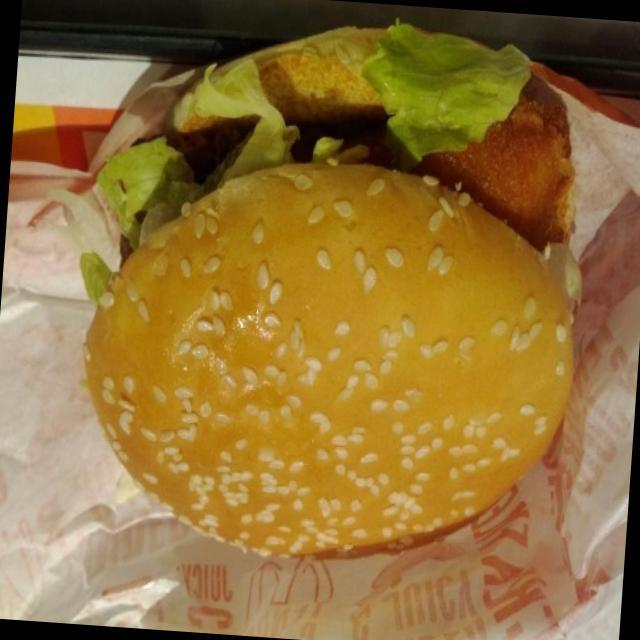Hamburger: (61, 13, 604, 587)
